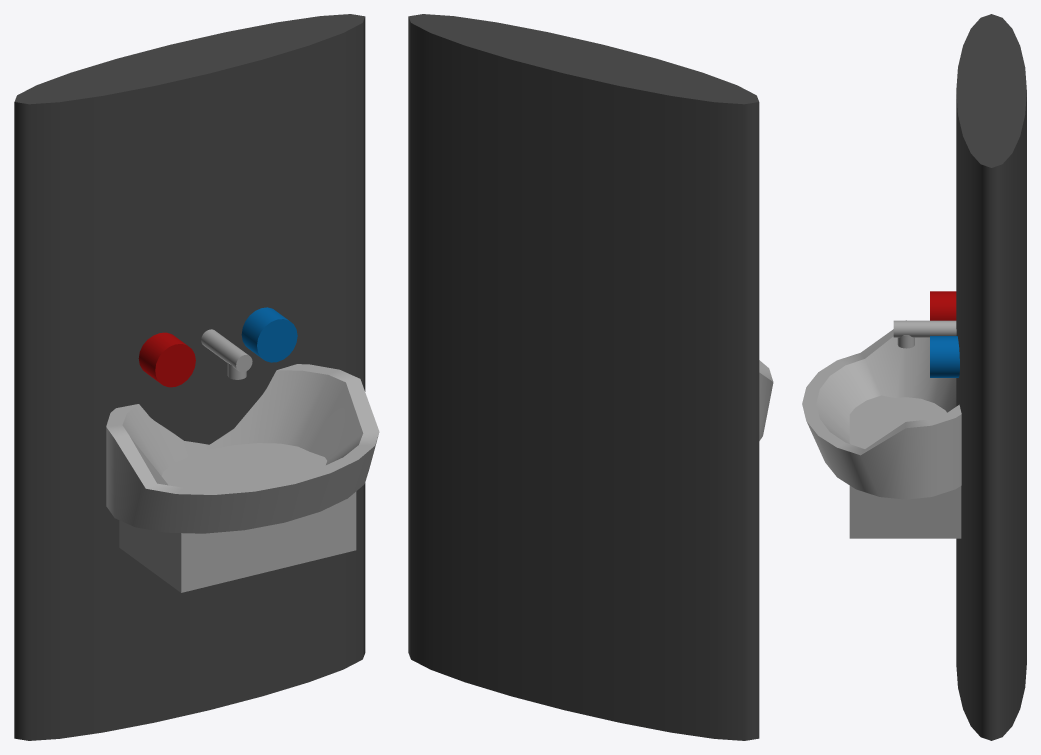
File: taps.fbx
3 renders of one model, left to right at view 1: azimuth 30°, elevation 25°; view 2: azimuth 150°, elevation 25°; view 3: azimuth 270°, elevation 25°, orthographic. The views are drawn at different scales.
Parts seen in each view (by area): view 1: pCylinder1, pPipe1, pCube1, pCylinder3, pasted__pCylinder3, pCylinder2; view 2: pCylinder1, pPipe1; view 3: pCylinder1, pPipe1, pCube1, pasted__pCylinder3, pCylinder2, pCylinder3.
Boxes of the visible parts, left/top/right/bottom form: pCylinder1: left=14, top=14, right=365, bottom=740; pPipe1: left=106, top=364, right=379, bottom=533; pCube1: left=119, top=443, right=356, bottom=592; pCylinder3: left=138, top=332, right=195, bottom=387; pasted__pCylinder3: left=241, top=307, right=297, bottom=362; pCylinder2: left=201, top=329, right=252, bottom=372; pCylinder1: left=408, top=14, right=759, bottom=740; pPipe1: left=759, top=360, right=773, bottom=440; pCylinder1: left=956, top=14, right=1026, bottom=740; pPipe1: left=802, top=320, right=961, bottom=499; pCube1: left=849, top=395, right=961, bottom=538; pasted__pCylinder3: left=930, top=336, right=959, bottom=377; pCylinder2: left=893, top=320, right=956, bottom=337; pCylinder3: left=930, top=291, right=956, bottom=320.
Size of the model in its own units: 4.63 by 8.03 by 2.86.
